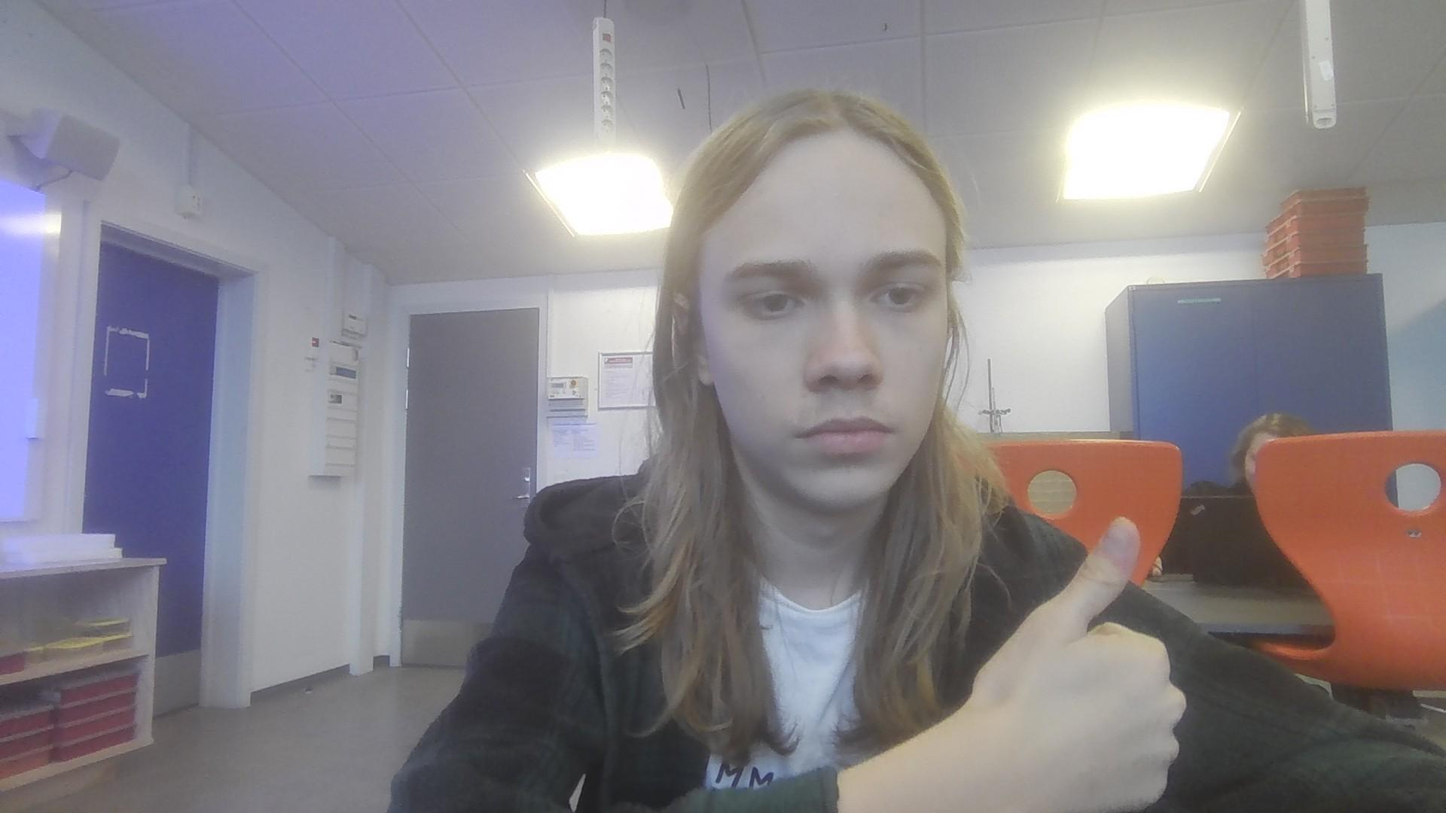thumbs up: (953, 513, 1192, 813)
